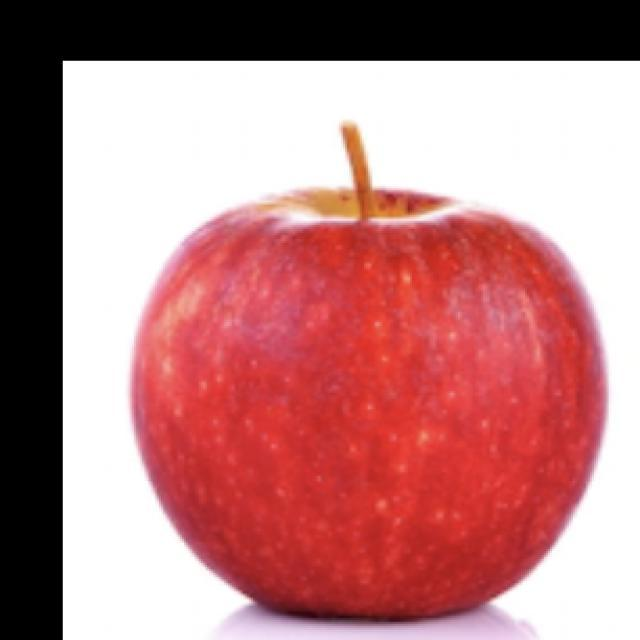Fresh Apple: (125, 173, 604, 623)
